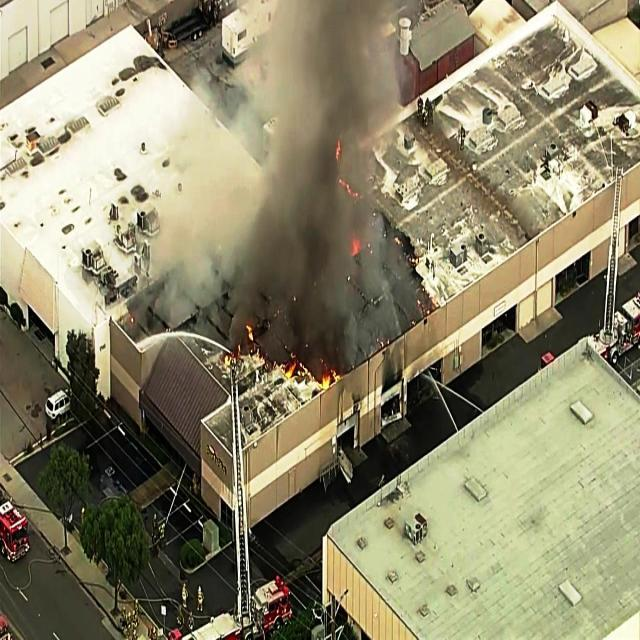Smoke: (266, 0, 362, 280)
